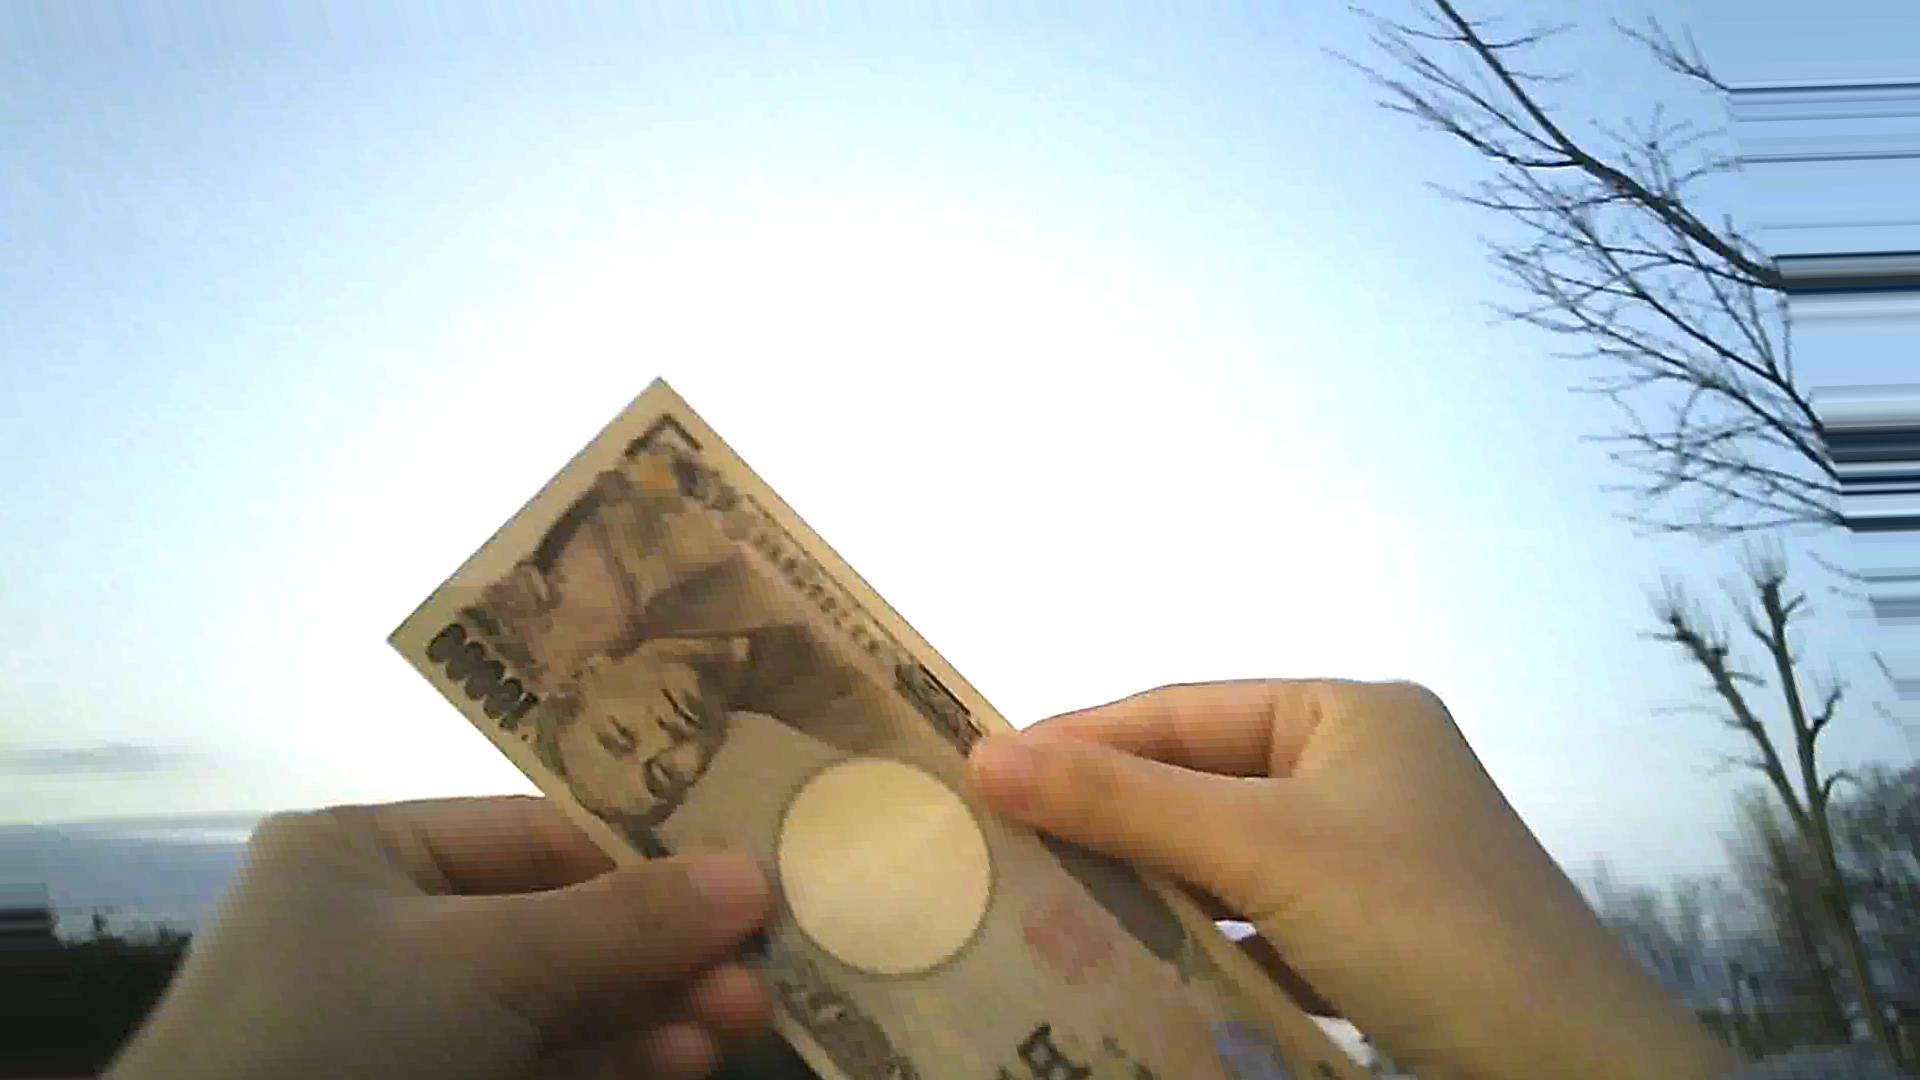10,000 Yen: (369, 384, 1221, 1079)
